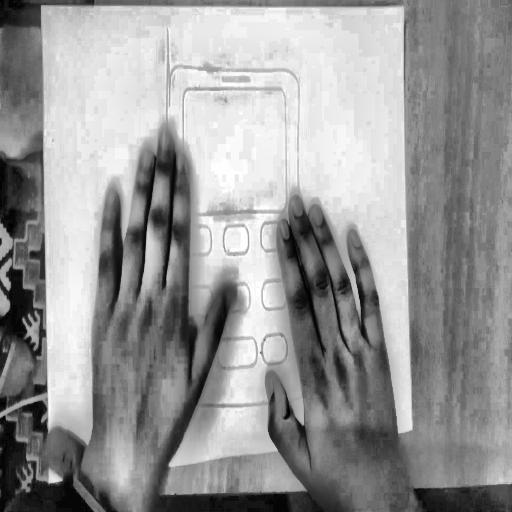bottom_left: (46, 478, 53, 488)
bottom_right: (409, 423, 416, 434)
mobile: (159, 17, 314, 427)
top_left: (39, 3, 44, 10)
top_right: (402, 4, 406, 11)
